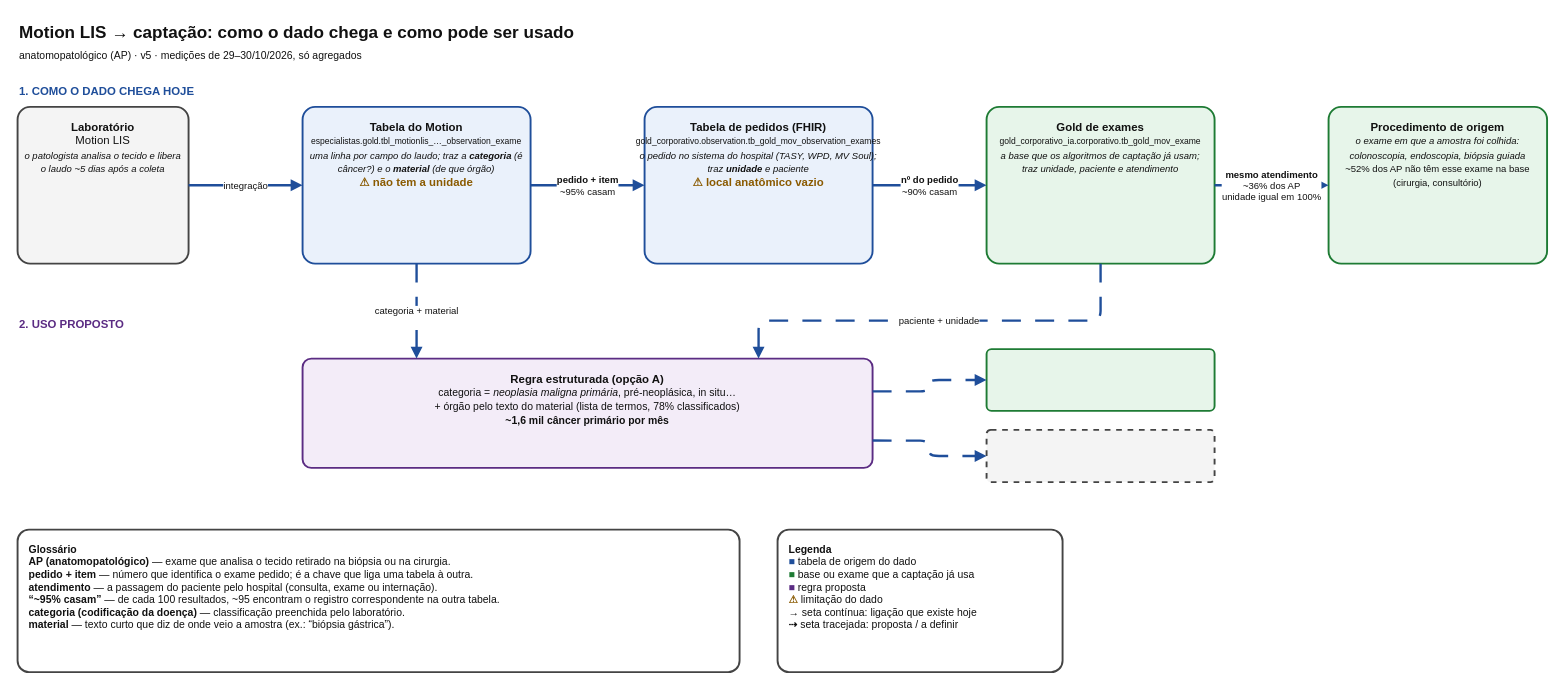
Some shapes in this 1564 by 689 pixel diagram are drawn without their labels. The shapes that lost their labels are listed below. From the top down, each one's centre as x and y in pixels, then its label:
At point 1100,379: "Linhas de captação próstata · mama · útero/colo · cólon · estômago".
At point 1100,455: "Tábia formato de entrega a definir".
